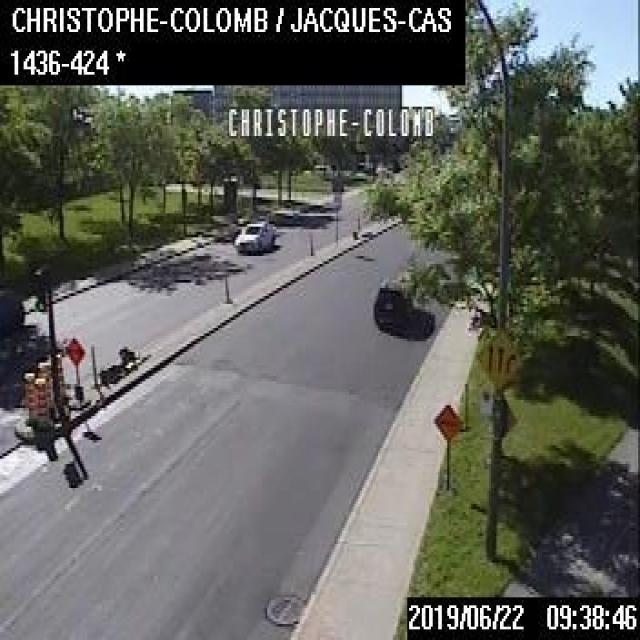construction: (64, 334, 89, 406), (36, 360, 52, 417), (32, 375, 47, 432), (22, 369, 34, 427), (54, 352, 67, 403)
vehicle: (371, 276, 412, 325), (232, 219, 276, 253), (0, 288, 24, 333), (313, 161, 337, 177), (370, 162, 391, 178)
